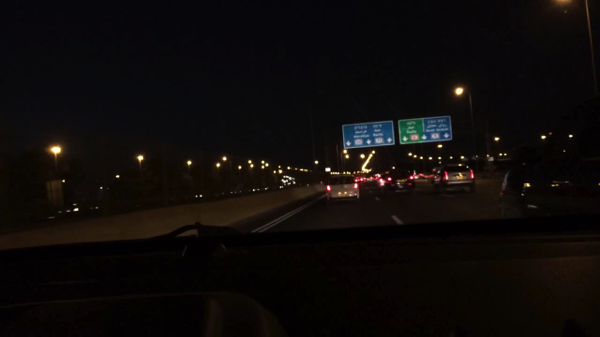car: (497, 145, 599, 219), (433, 162, 477, 194), (324, 175, 360, 203), (375, 170, 414, 191), (427, 165, 442, 184), (357, 175, 367, 184)
traffic sign: (397, 115, 452, 143), (341, 121, 395, 147)
